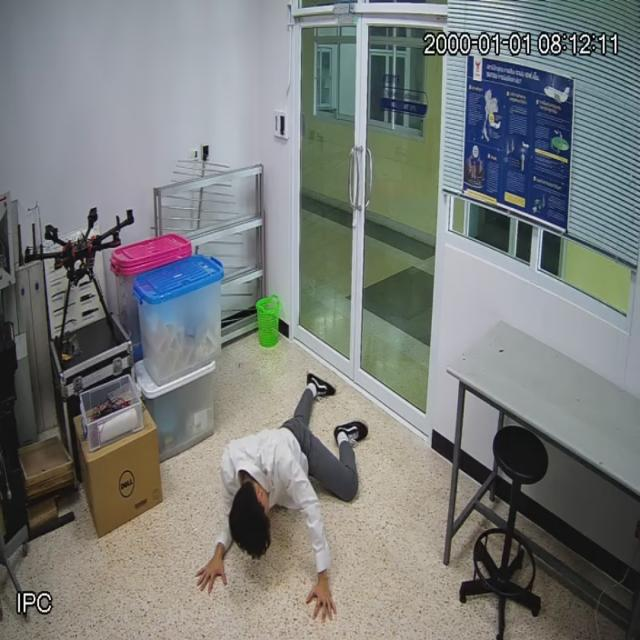fall: (202, 372, 365, 616)
